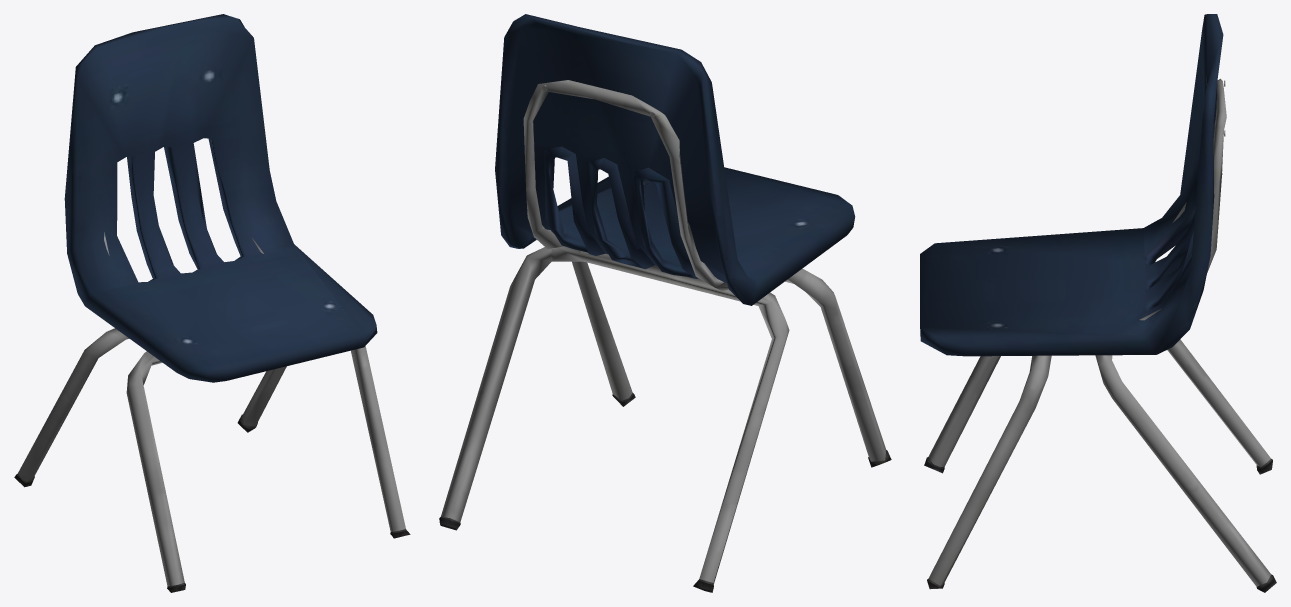
The model's file is SchoolChair_01.glb.
3 renders of one model, left to right at view 1: azimuth 30°, elevation 25°; view 2: azimuth 150°, elevation 25°; view 3: azimuth 270°, elevation 25°, orthographic. The views are drawn at different scales.
Parts seen in each view (by area): view 1: SchoolChair_01; view 2: SchoolChair_01; view 3: SchoolChair_01.
Boxes of the visible parts, box(x1,y1,x2,y2) form: SchoolChair_01: box(14, 14, 410, 592); SchoolChair_01: box(439, 14, 891, 592); SchoolChair_01: box(920, 14, 1276, 592).
Size of the model in its own units: 0.5658 by 1 by 0.6692.
Materials: 1 (1 with a texture image).
